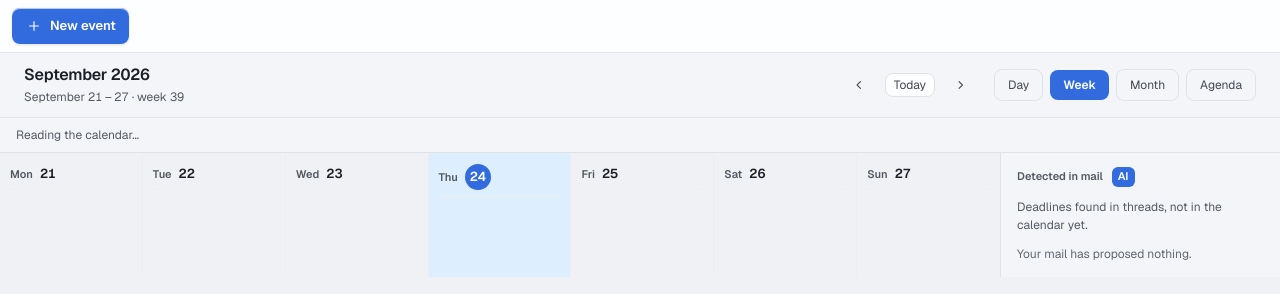
Scenario: CalendarSpace › draws the span the reader moved to, even where the span they left answers after it
Click the button named "Later" at (961, 85), box x1=942 y1=66 x2=980 y2=104
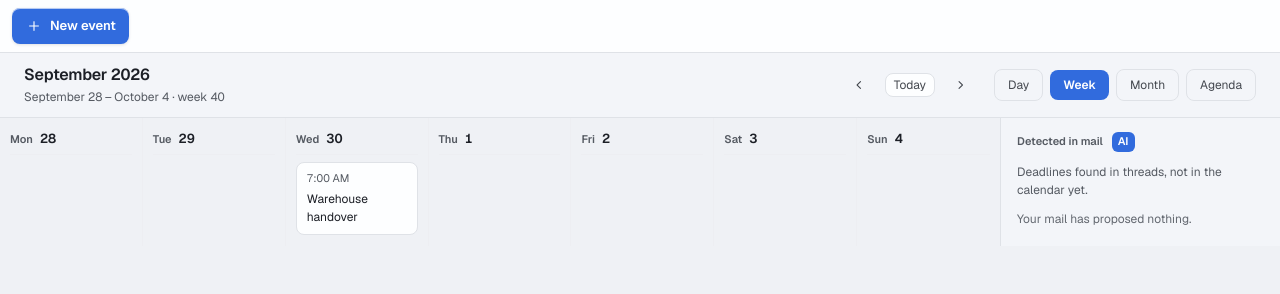
Result: the option "7:00 AM Warehouse handover" is shown at x1=296 y1=162 x2=418 y2=235
